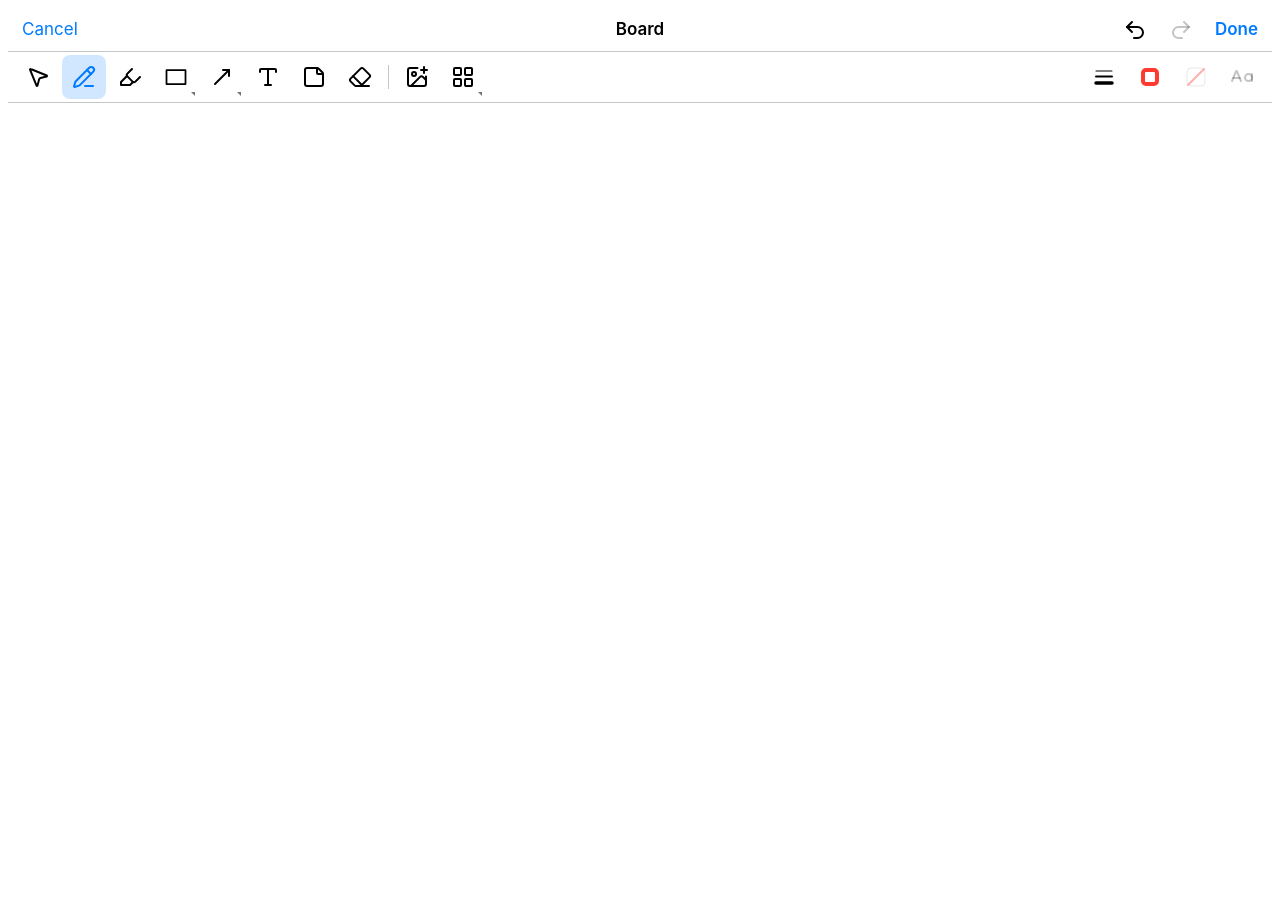
Test: navigation texts › are English by default
The image size is (1280, 900).
Expected: the button with test id "markup.done" reads "Done", [1205,8,1268,52]
What coordinates should you click on to do the following:
click the button with test id "markup.cancel"
I would click on:
 (50, 30)
Its box is [12,8,88,52].
(page scrolled)
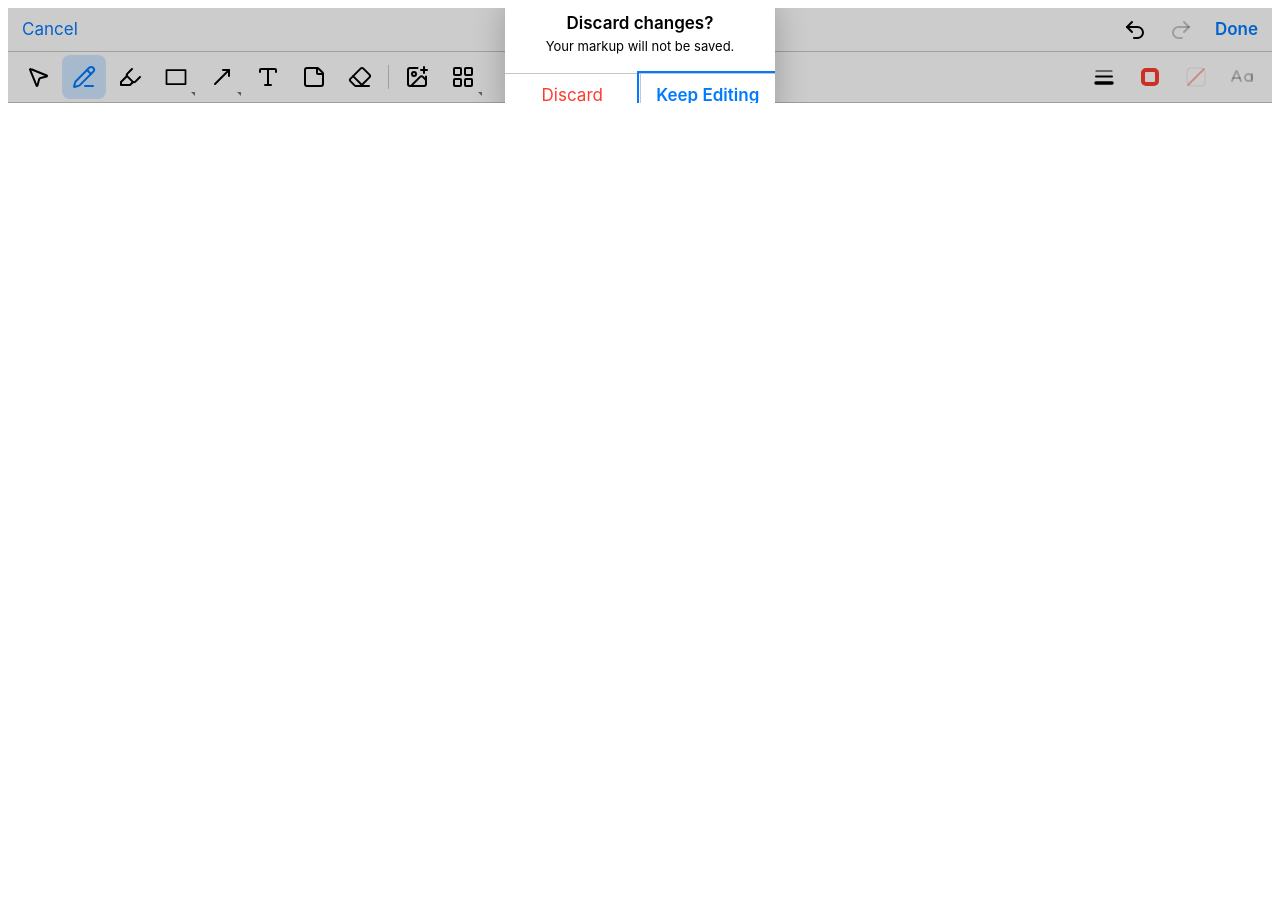
Expected: the heading reads "Discard changes?", [566,12,713,32]
Expected: the dialog shows "Your markup will not be saved.", [546,38,734,54]
Expected: the buttons read "Discard", "Keep Editing", in this order, [505,74,640,103]; [640,74,775,103]
